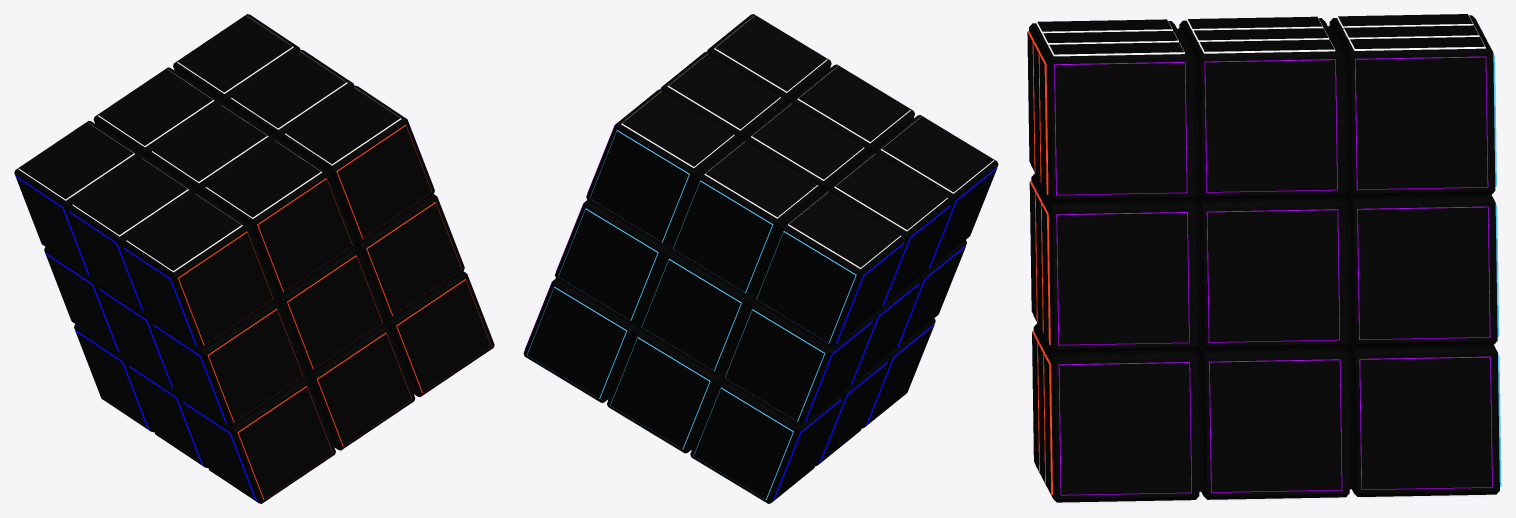
The model's file is cubeblack.glb.
3 renders of one model, left to right at view 1: azimuth 30°, elevation 25°; view 2: azimuth 150°, elevation 25°; view 3: azimuth 270°, elevation 25°, orthographic. The views are drawn at different scales.
Parts seen in each view (by area): view 1: Cube; view 2: Cube; view 3: Cube.
Boxes of the visible parts, <box> form: Cube: <box>14,14,494,503</box>; Cube: <box>523,14,998,503</box>; Cube: <box>1027,14,1501,503</box>.
Bounding box in the file's own units: 1.62 × 1.57 × 1.3.
